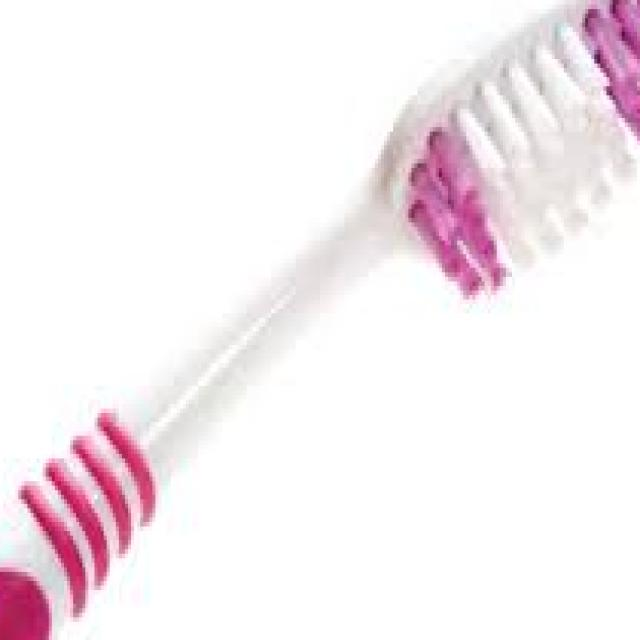organic: (3, 1, 638, 627)
